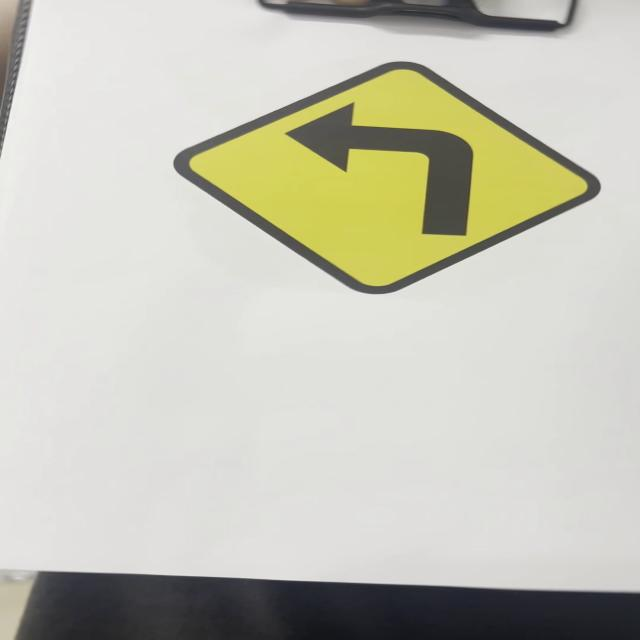left: (174, 63, 600, 296)
